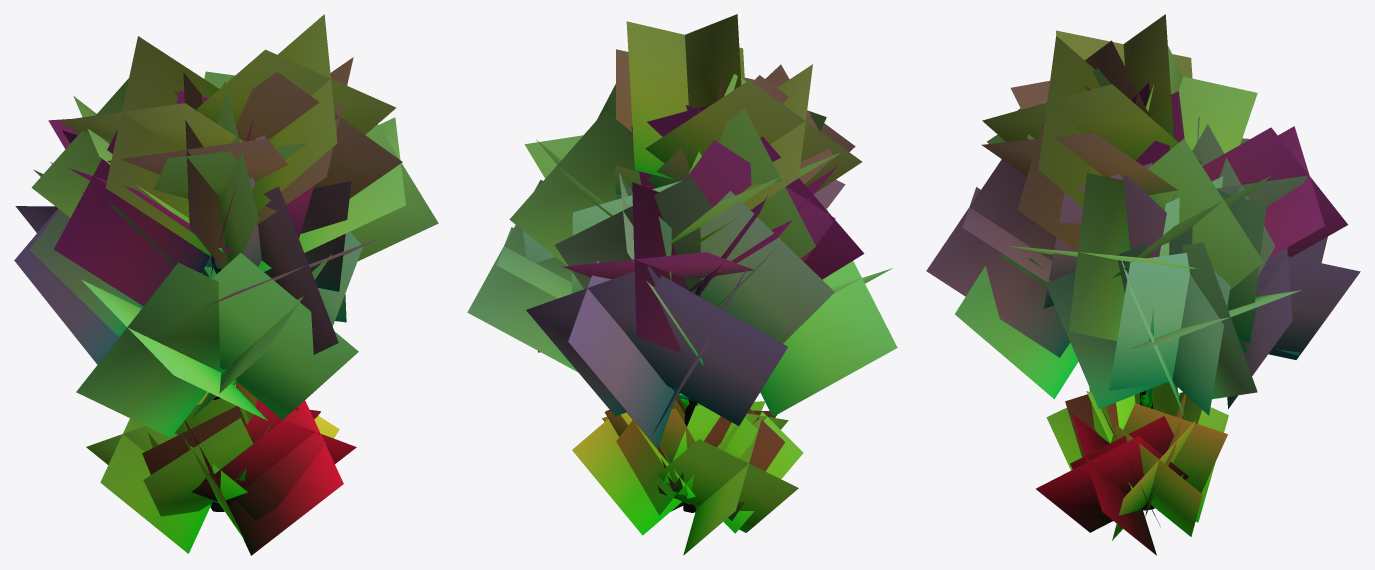
Rendered from URP_P12_Tree_1_LOD_0.fbx.
3 views of the same model, side by side, from view 1: azimuth 30°, elevation 25°; view 2: azimuth 150°, elevation 25°; view 3: azimuth 270°, elevation 25° (orthographic). The views are drawn at different scales.
Visible parts, largest first — view 1: Tree_1_LOD_0; view 2: Tree_1_LOD_0; view 3: Tree_1_LOD_0.
Part boxes in pixels (<box>): Tree_1_LOD_0: <box>14,14,438,555</box>; Tree_1_LOD_0: <box>467,14,897,555</box>; Tree_1_LOD_0: <box>926,14,1360,555</box>.
Size of the model in its own units: 171 by 231 by 184.
